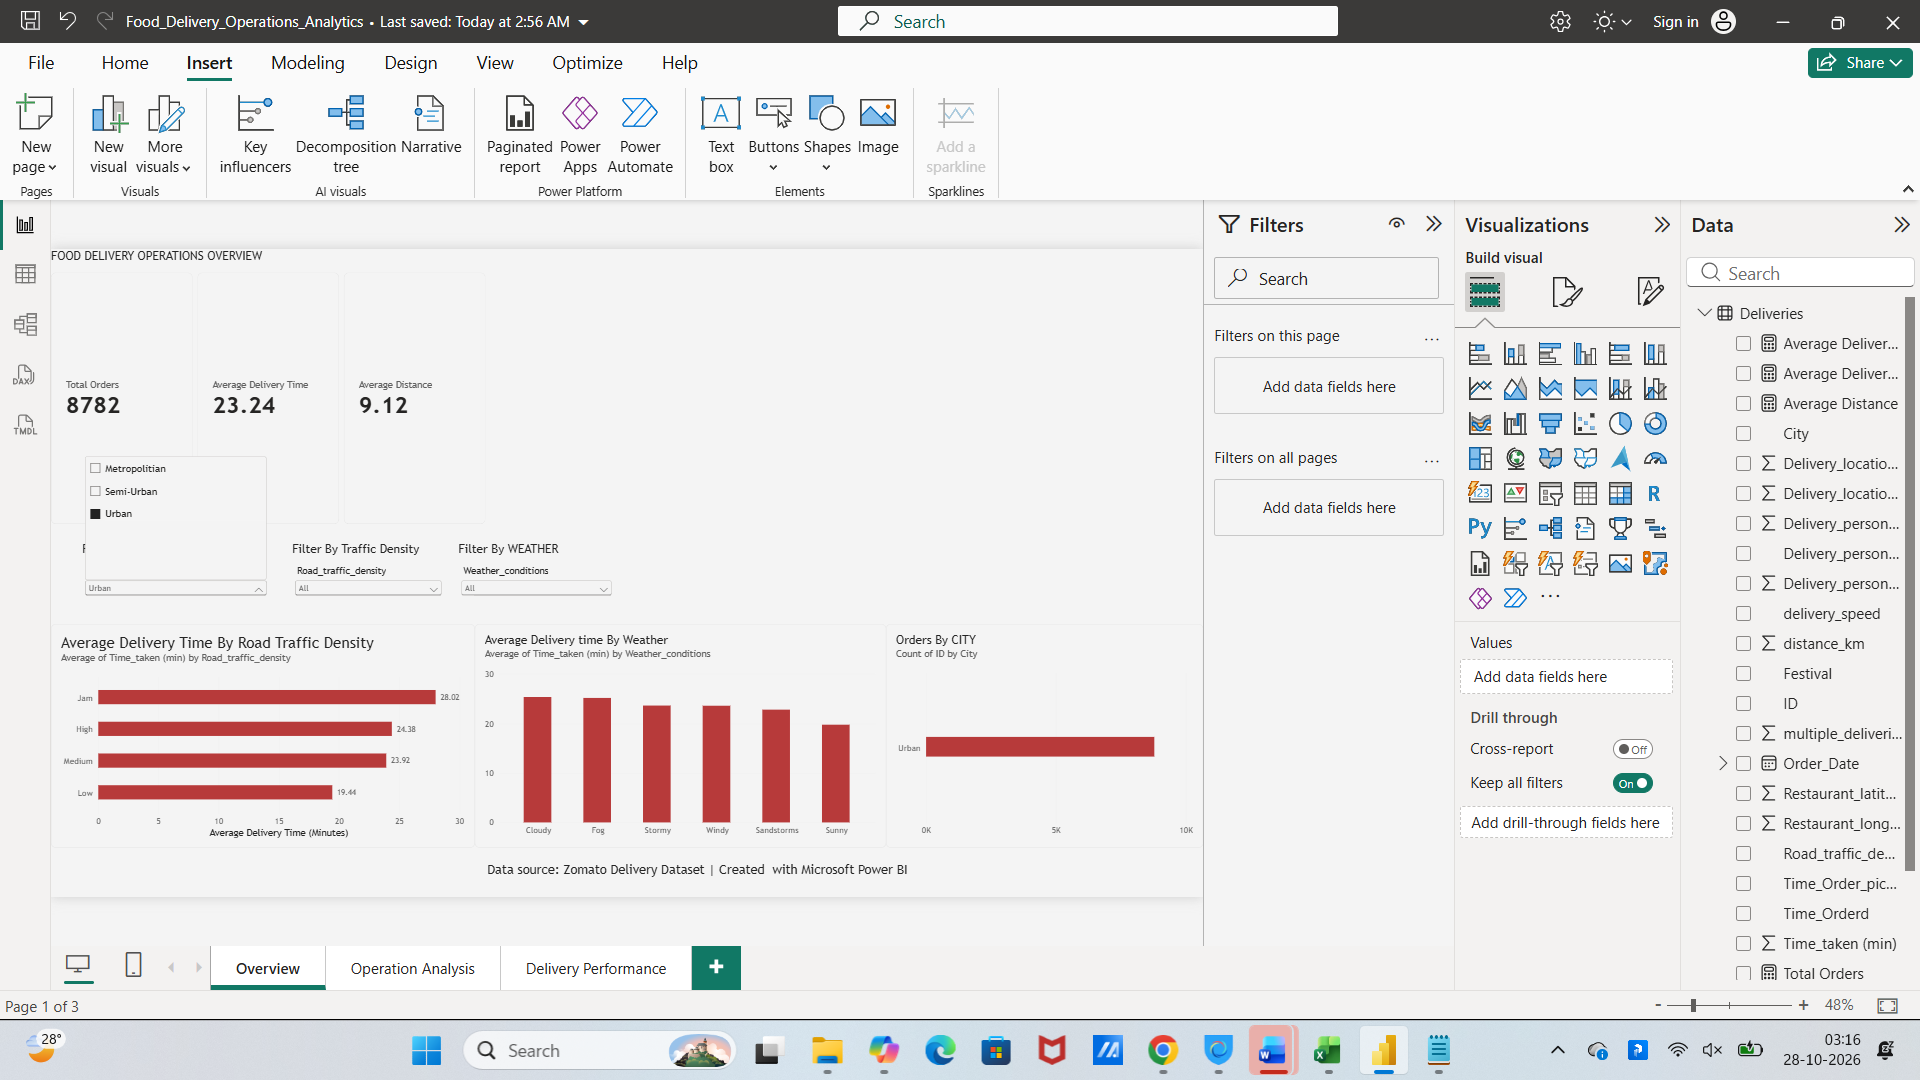

The page's visual inventory and layout, read from the dashboard file:
{"tool":"powerbi","page":{"name":"Overview","canvas":[1920,1080],"ordinal":0},"visuals":[{"type":"cardVisual","title":"FOOD DELIVERY OPERATIONS OVERVIEW","fields":{"Data":["Deliveries.Total Orders","Deliveries.Average Delivery Time","Deliveries.Average Distance"]},"box":[0,0,726.9,458.2],"z":0},{"type":"clusteredBarChart","title":"Average Delivery Time By Road Traffic Density","fields":{"Category":["Deliveries.Road_traffic_density"],"Y":["Avg(Deliveries.Time_taken (min))"]},"box":[0,624.9,706.1,372.8],"z":1000},{"type":"clusteredColumnChart","title":"Average Delivery time By Weather","fields":{"Category":["Deliveries.Weather_conditions"],"Y":["Avg(Deliveries.Time_taken (min))"]},"box":[706.1,624.9,685.3,372.8],"z":2000},{"type":"clusteredBarChart","title":"Orders By CITY","fields":{"Category":["Deliveries.City"],"Y":["CountNonNull(Deliveries.ID)"]},"box":[1391.4,624.9,529.1,372.8],"z":3000},{"type":"slicer","title":"Filter By CITY","fields":{"Values":["Deliveries.City"]},"box":[52.1,487.4,312.4,170.8],"z":4000},{"type":"slicer","title":"Filter By Traffic Density","fields":{"Values":["Deliveries.Road_traffic_density"]},"box":[402,487.4,254.1,170.8],"z":5000},{"type":"slicer","title":"Filter By WEATHER","fields":{"Values":["Deliveries.Weather_conditions"]},"box":[679,487.4,260.4,108.3],"z":6000},{"type":"textbox","box":[726.9,1020.6,754,60.4],"z":6001}]}

Visuals, with their boxes on the page's 1920x1080 design canvas (x1, y1, x2, y2). These are canvas units, not pixel positions in the 1920x1080 screenshot, which may show the page scaled, cropped or inside an application window:
"FOOD DELIVERY OPERATIONS OVERVIEW" cardVisual: x1=0, y1=0, x2=727, y2=458
"Average Delivery Time By Road Traffic Density" clusteredBarChart: x1=0, y1=625, x2=706, y2=998
"Average Delivery time By Weather" clusteredColumnChart: x1=706, y1=625, x2=1391, y2=998
"Orders By CITY" clusteredBarChart: x1=1391, y1=625, x2=1920, y2=998
"Filter By CITY" slicer: x1=52, y1=487, x2=364, y2=658
"Filter By Traffic Density" slicer: x1=402, y1=487, x2=656, y2=658
"Filter By WEATHER" slicer: x1=679, y1=487, x2=939, y2=596
textbox: x1=727, y1=1021, x2=1481, y2=1081
